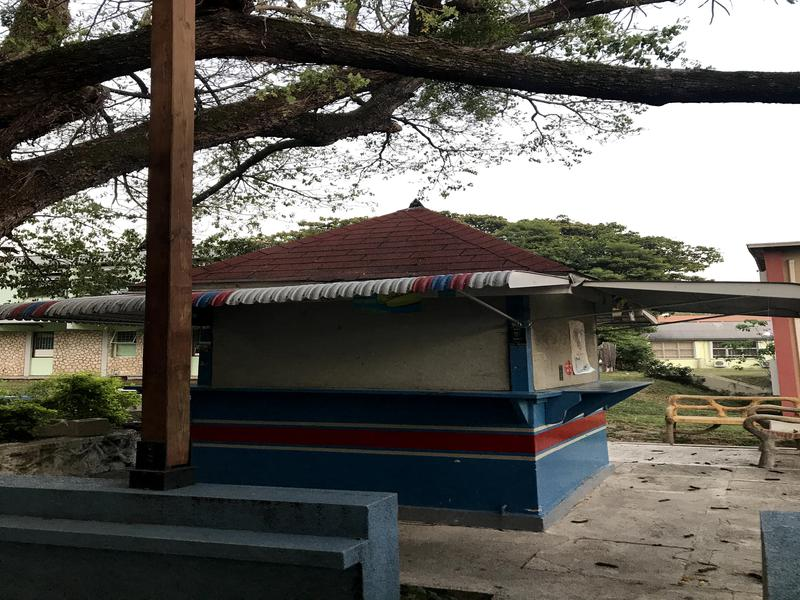18.0051667_-76.74944412_librarystall: (180, 194, 629, 533)
